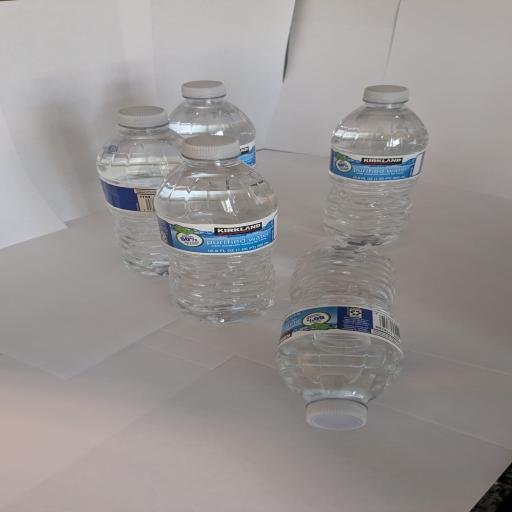waterbottle: (277, 246, 402, 429), (155, 136, 277, 322), (325, 86, 428, 245), (97, 107, 182, 274), (170, 81, 255, 166)
